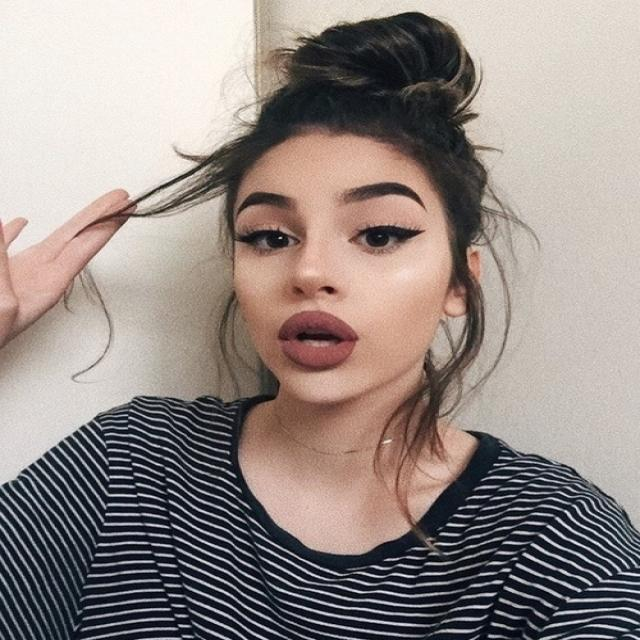mobile_phonerotation: (1, 9, 638, 636)
